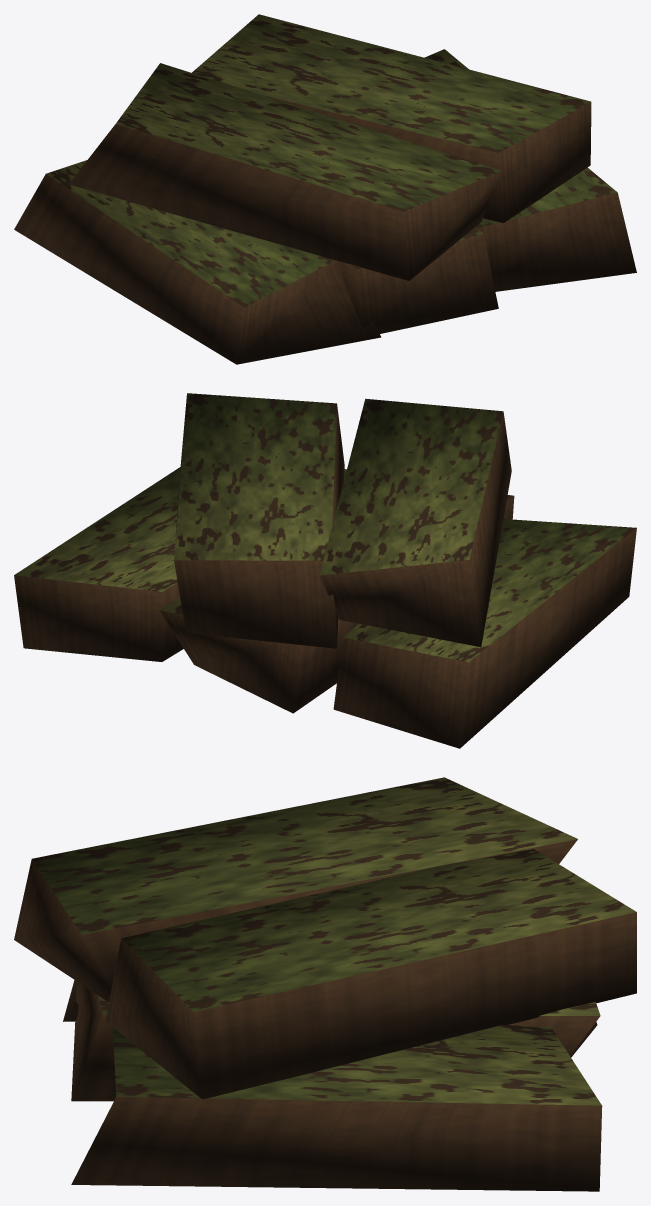
File: peatstack.glb
3 renders of one model, top to bottom at view 1: azimuth 30°, elevation 25°; view 2: azimuth 150°, elevation 25°; view 3: azimuth 270°, elevation 25°, orthographic. The views are drawn at different scales.
Parts seen in each view (by area): view 1: peatstack; view 2: peatstack; view 3: peatstack.
Part boxes in pixels (bbox=[...]): peatstack: bbox=[14, 14, 636, 364]; peatstack: bbox=[14, 393, 636, 748]; peatstack: bbox=[14, 777, 636, 1191].
Bounding box in the file's own units: 0.4029 × 0.1236 × 0.3882.
Materials: 1 (1 with a texture image).
